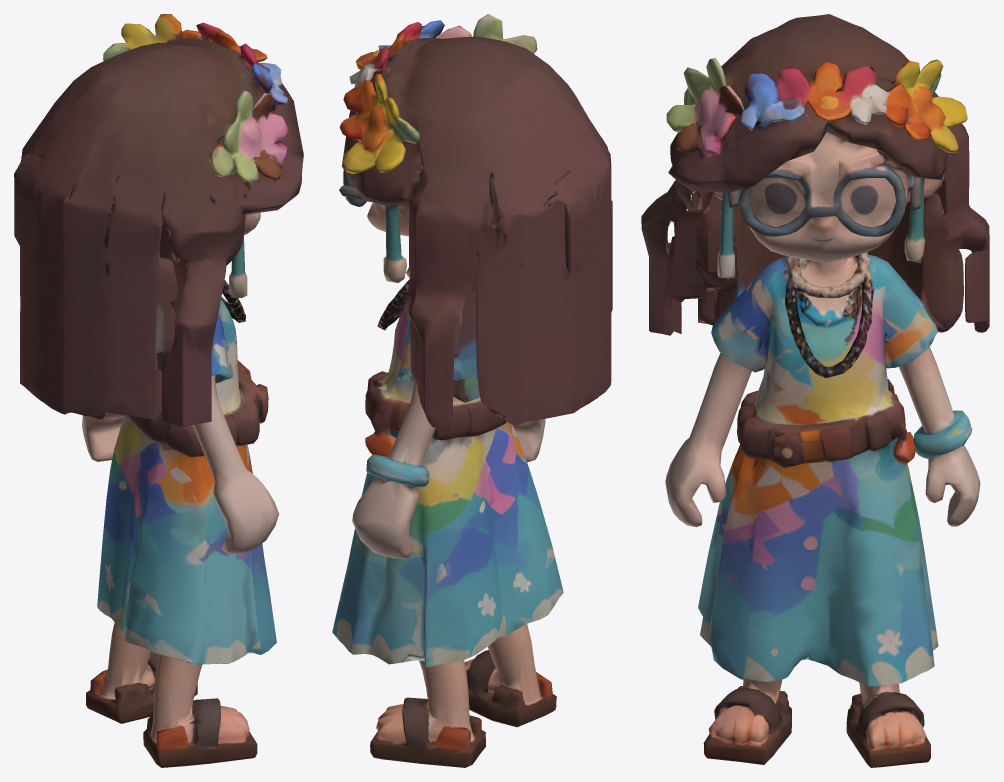
Rendered from hippiewoman_static.glb.
The picture shows the model from 3 angles, left to right: view 1: azimuth 30°, elevation 25°; view 2: azimuth 150°, elevation 25°; view 3: azimuth 270°, elevation 25°; orthographic projection. The views are drawn at different scales.
Visible parts, largest first — view 1: tripo_node_f1611a70-b571-4738-9946-b8b283a74a27; view 2: tripo_node_f1611a70-b571-4738-9946-b8b283a74a27; view 3: tripo_node_f1611a70-b571-4738-9946-b8b283a74a27.
Part boxes in pixels (box(x1,y1,x2,y2)): tripo_node_f1611a70-b571-4738-9946-b8b283a74a27: box(14, 14, 303, 767); tripo_node_f1611a70-b571-4738-9946-b8b283a74a27: box(332, 14, 612, 767); tripo_node_f1611a70-b571-4738-9946-b8b283a74a27: box(641, 14, 989, 767).
Size of the model in its own units: 0.3601 by 1 by 0.4445.
Materials: 1 (1 with a texture image).
